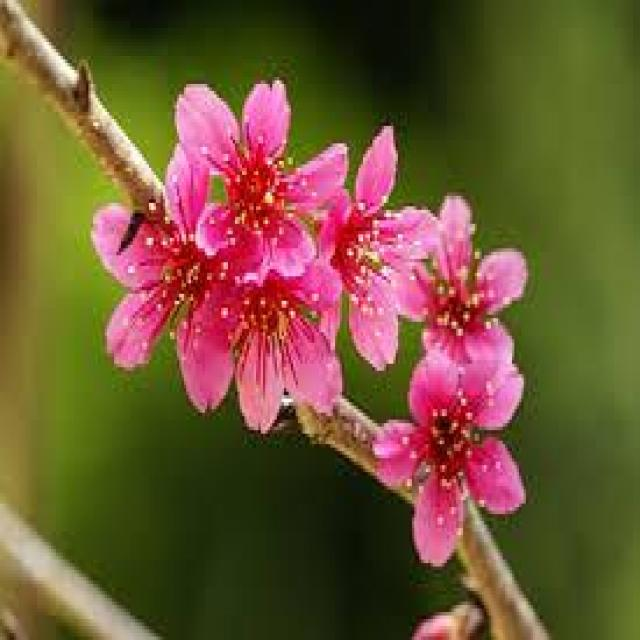organic waste: (89, 149, 258, 411), (171, 70, 343, 287), (398, 330, 535, 579), (299, 131, 439, 359), (213, 225, 362, 436), (383, 187, 527, 380)
